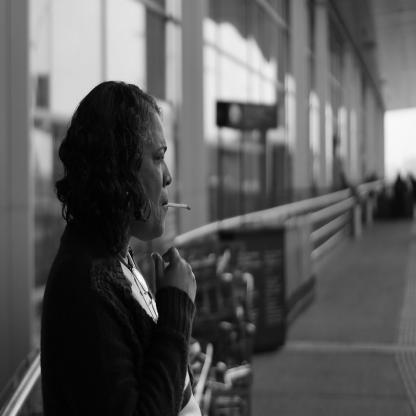smoking: (166, 203, 191, 210)
